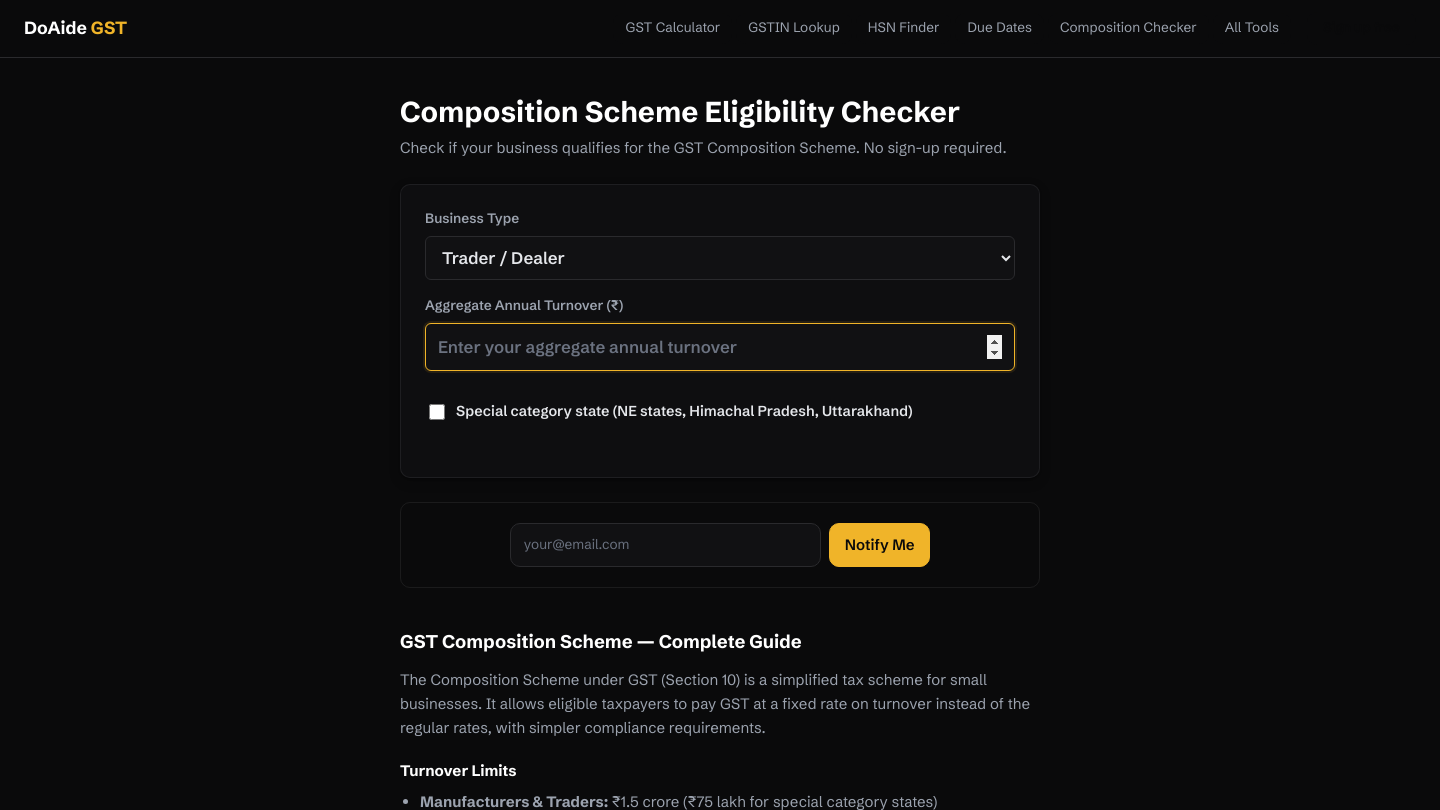
it: CompositionSchemePage › shows tax rate for eligible businesses
Type "5000000" into the number field with placeholder "Enter your aggregate annual turnover" at coordinates (720, 347), box x1=425 y1=323 x2=1015 y2=371
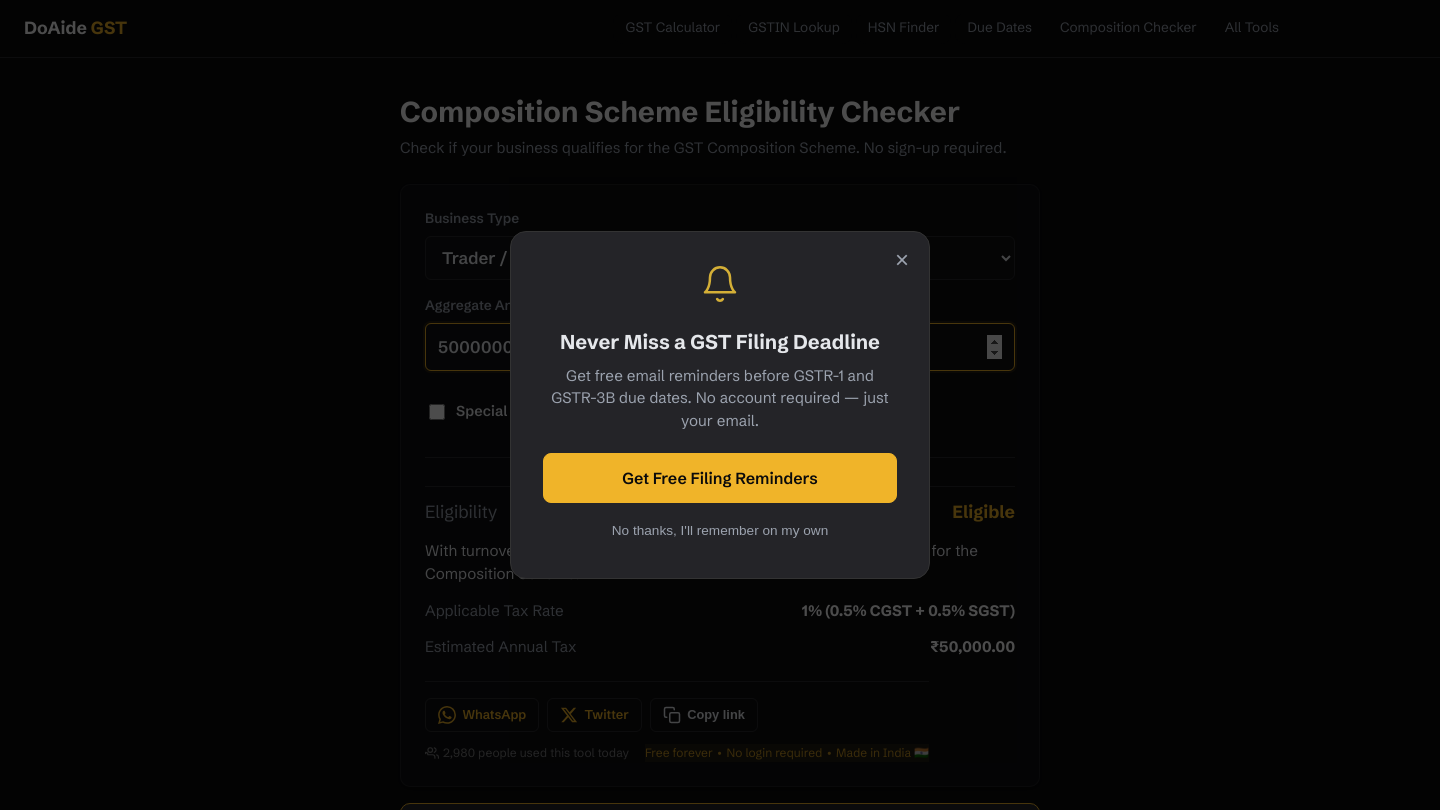
Expected: the element with class "calc-result" shows "1%", x1=802 y1=601 x2=1015 y2=620
